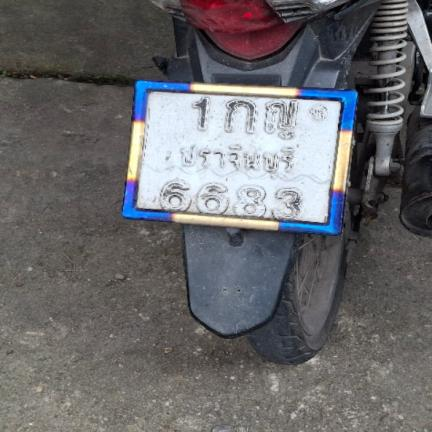1: (185, 94, 212, 133)
3: (271, 183, 308, 223)
6: (157, 176, 194, 211), (197, 178, 229, 217)
8: (234, 182, 267, 219)
A01: (261, 97, 300, 141), (221, 95, 257, 134)
PNB: (178, 140, 302, 181)
